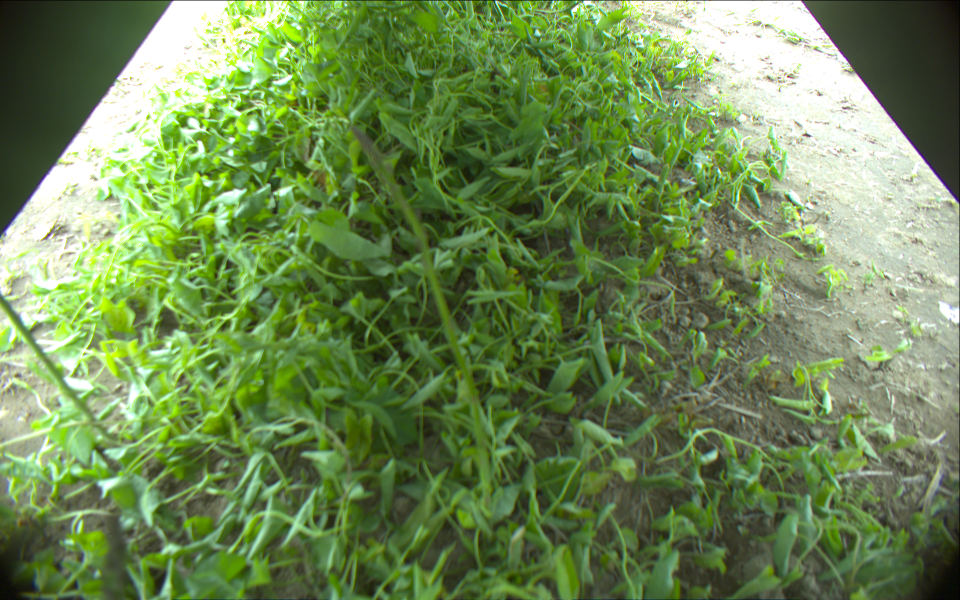aspa: (352, 121, 494, 506), (1, 287, 123, 437)
